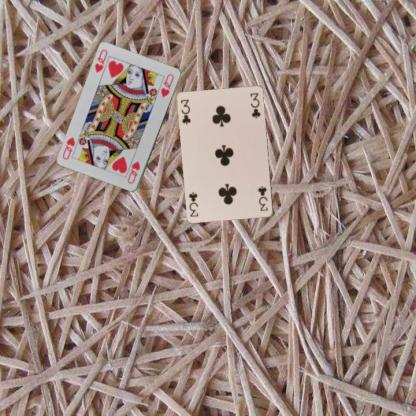3c: (178, 97, 192, 126), (256, 184, 270, 212)
Qh: (124, 159, 141, 185), (92, 47, 108, 74)
